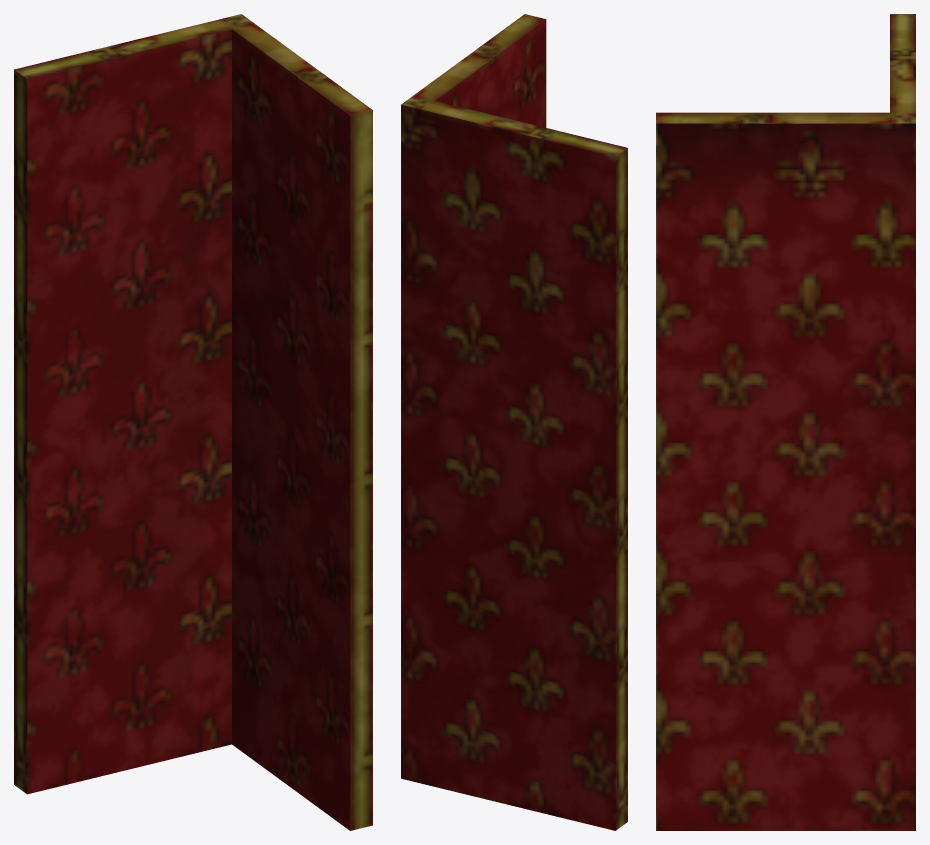
File: wall_corner_04.fbx
3 views of the same model, side by side, from view 1: azimuth 30°, elevation 25°; view 2: azimuth 150°, elevation 25°; view 3: azimuth 270°, elevation 25° (orthographic). The views are drawn at different scales.
Visible parts, largest first — view 1: wall_corner_04; view 2: wall_corner_04; view 3: wall_corner_04.
Part boxes in pixels (x1=…): wall_corner_04: x1=14, y1=14, x2=372, y2=830; wall_corner_04: x1=401, y1=14, x2=627, y2=830; wall_corner_04: x1=656, y1=14, x2=915, y2=830.
Bounding box in the file's own units: 100 × 300 × 100.
1 material, 1 textured.
